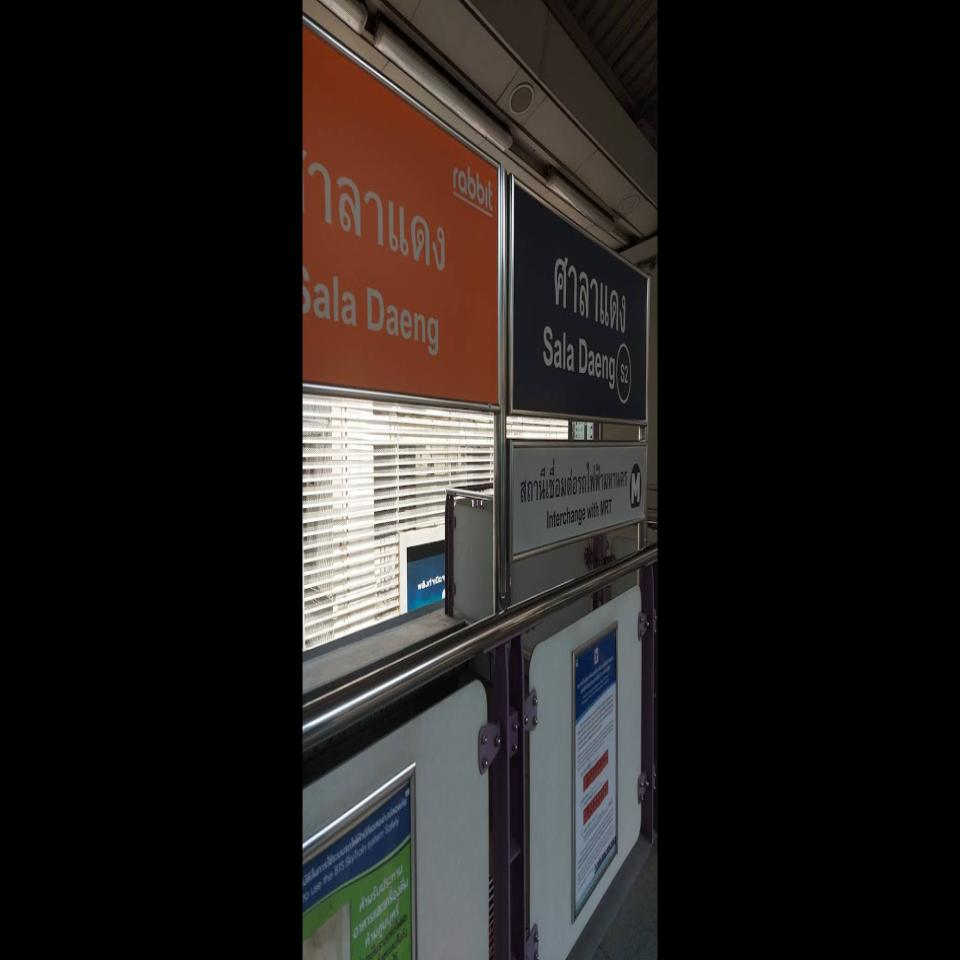signage: (506, 168, 650, 427)
